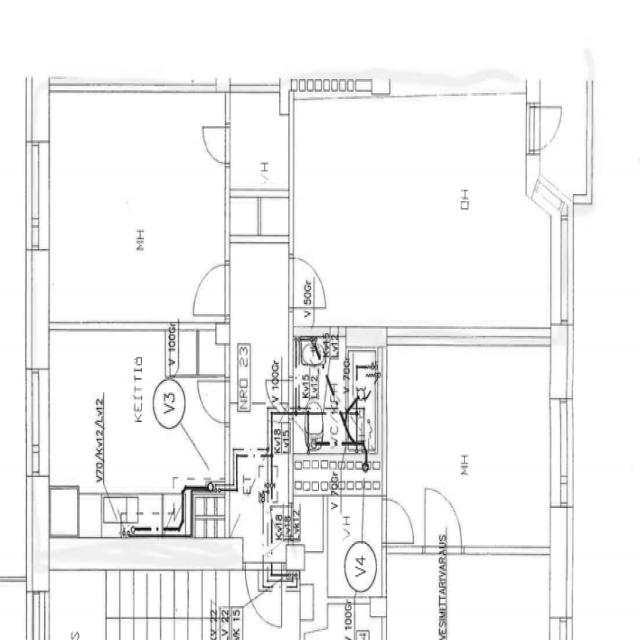door: (422, 482, 464, 555), (190, 256, 230, 323), (288, 251, 328, 312), (381, 492, 420, 550), (526, 99, 564, 154), (196, 374, 230, 427), (199, 120, 230, 165)
window: (550, 213, 576, 331), (550, 391, 575, 508)
zone: (296, 86, 541, 325), (45, 83, 227, 332), (385, 341, 555, 552), (36, 327, 198, 544), (231, 239, 293, 413), (292, 331, 376, 454), (228, 83, 289, 246), (324, 480, 384, 611), (190, 490, 228, 540), (235, 454, 270, 502)
